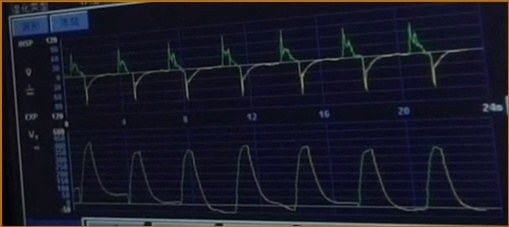Accumulation Flow: (64, 24, 479, 105)
Volume: (75, 139, 491, 215)
